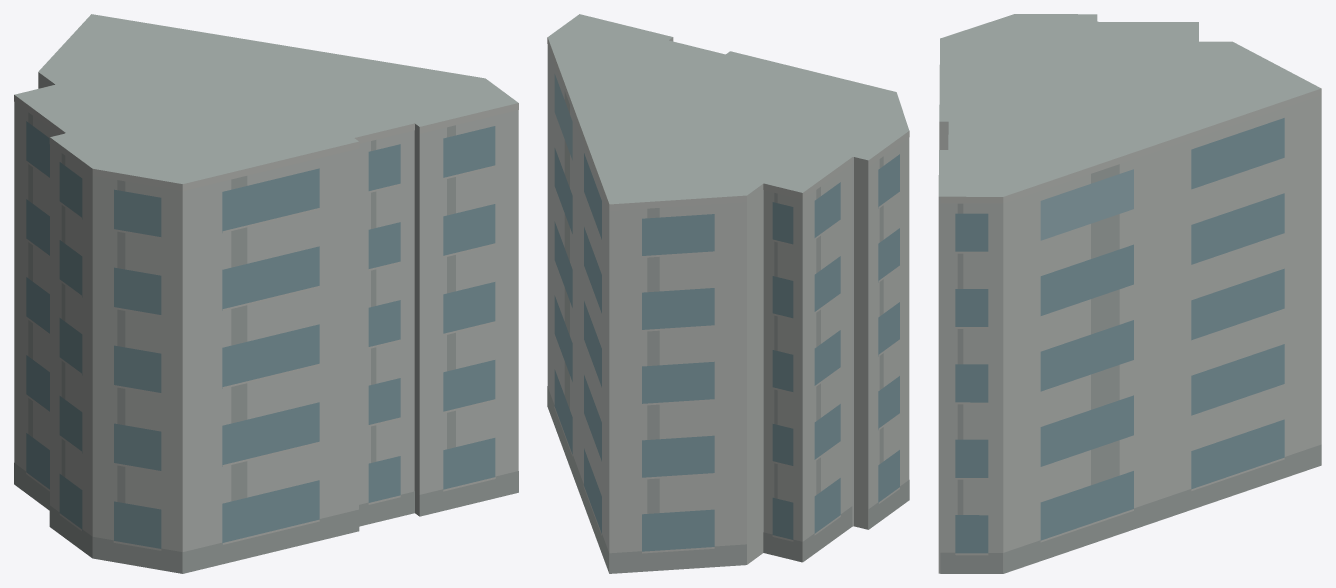
The model's file is residential-20ac89fa-b22d-45fb-8b42-56cffc2e82f1.glb.
The picture shows the model from 3 angles, left to right: view 1: azimuth 30°, elevation 25°; view 2: azimuth 150°, elevation 25°; view 3: azimuth 270°, elevation 25°; orthographic projection. The views are drawn at different scales.
Parts seen in each view (by area): view 1: residential-20ac89fa-b22d-45fb-8b42-56cffc2e82f1.tmp; view 2: residential-20ac89fa-b22d-45fb-8b42-56cffc2e82f1.tmp; view 3: residential-20ac89fa-b22d-45fb-8b42-56cffc2e82f1.tmp.
Boxes of the visible parts, x1,y1,x2,y2 form: residential-20ac89fa-b22d-45fb-8b42-56cffc2e82f1.tmp: [14, 14, 518, 573]; residential-20ac89fa-b22d-45fb-8b42-56cffc2e82f1.tmp: [547, 14, 909, 573]; residential-20ac89fa-b22d-45fb-8b42-56cffc2e82f1.tmp: [938, 14, 1321, 573].
Bounding box in the file's own units: 14.01 × 13.45 × 12.39.
